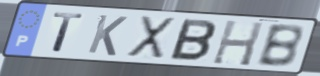B: (167, 17, 218, 63), (254, 23, 305, 69)
H: (209, 18, 266, 68)
K: (85, 13, 130, 58)
T: (50, 12, 86, 54)
X: (124, 14, 178, 62)
